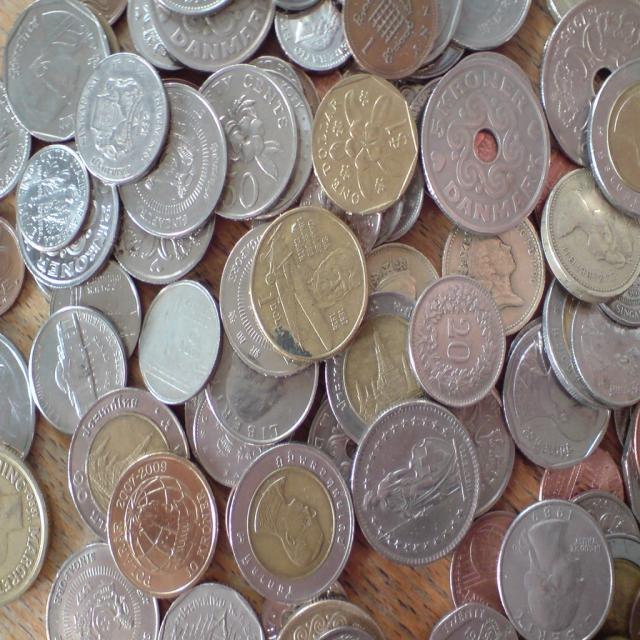Coin: (0, 0, 640, 639), (250, 205, 372, 360)
